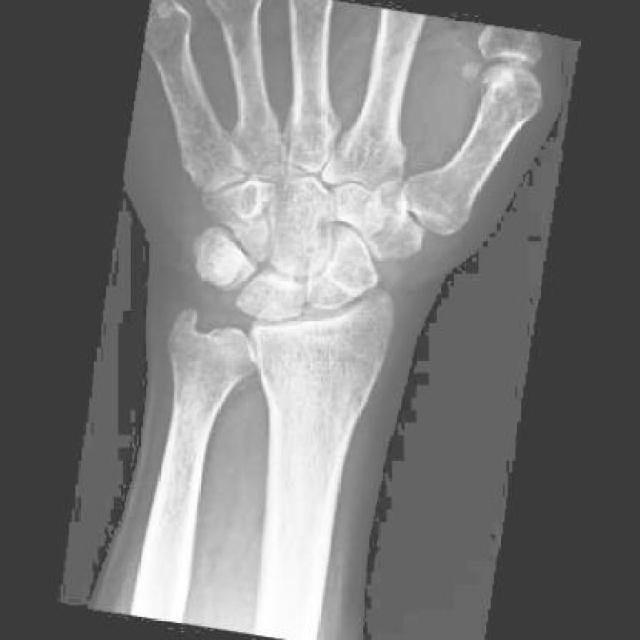Fracture: (205, 215, 245, 254)
